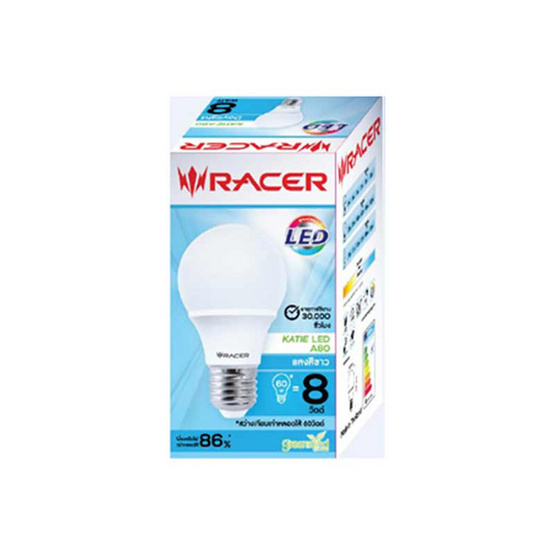Light_bulb: (171, 218, 296, 426)
